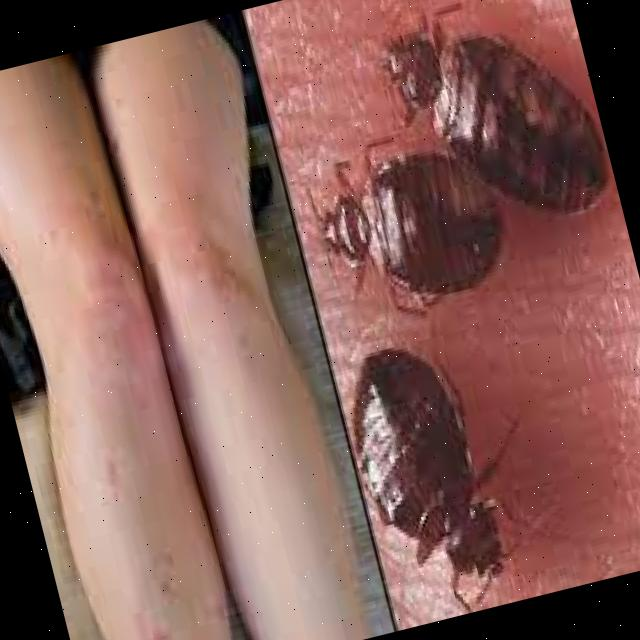kan emici bocekler: (60, 246, 164, 407), (98, 461, 127, 509), (133, 607, 171, 640), (202, 591, 233, 631)
